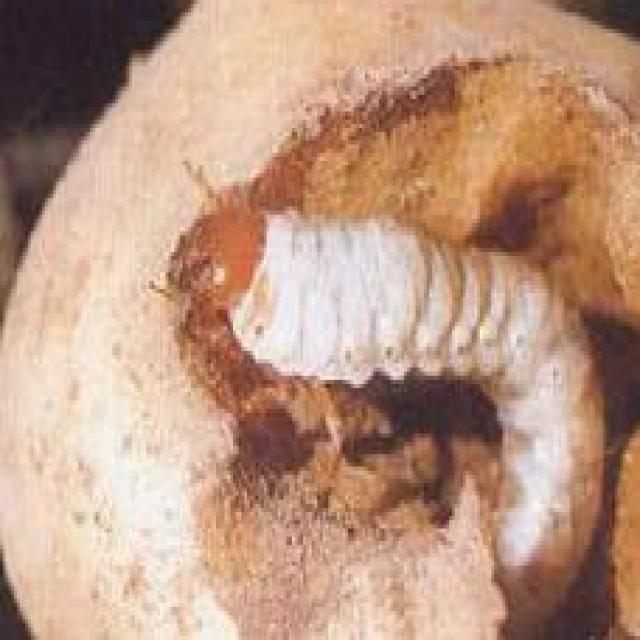Grub-Adult-: (177, 188, 606, 605)
